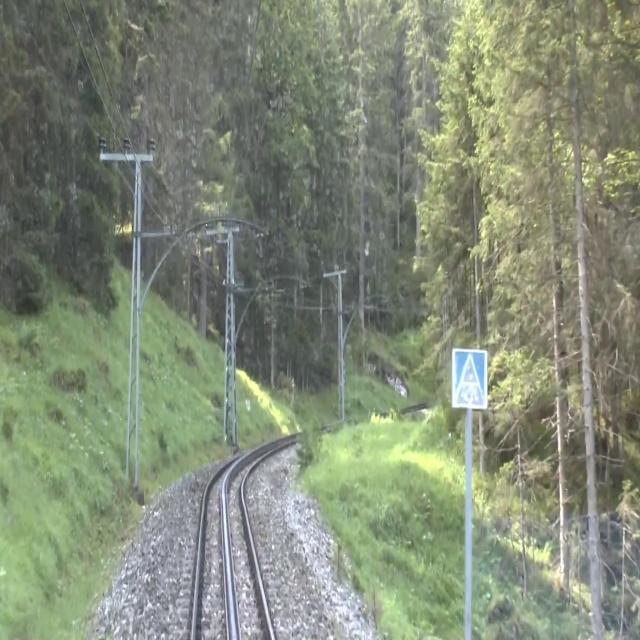rail-track: (196, 449, 270, 639)
